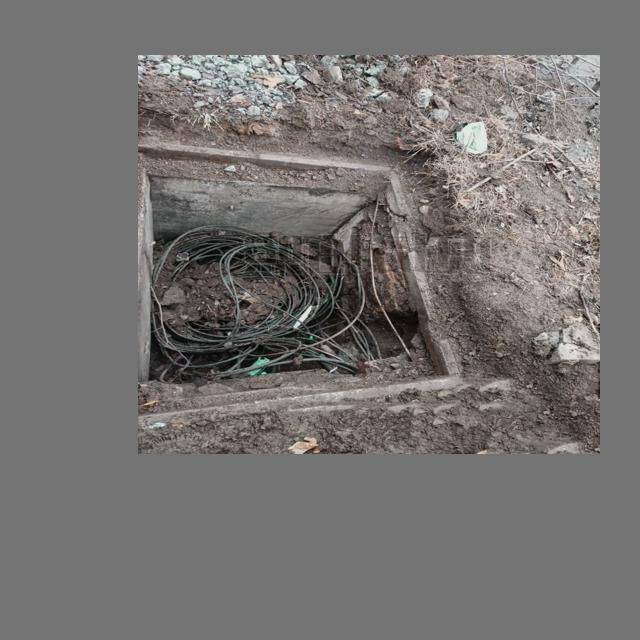lose: (138, 140, 471, 426)
